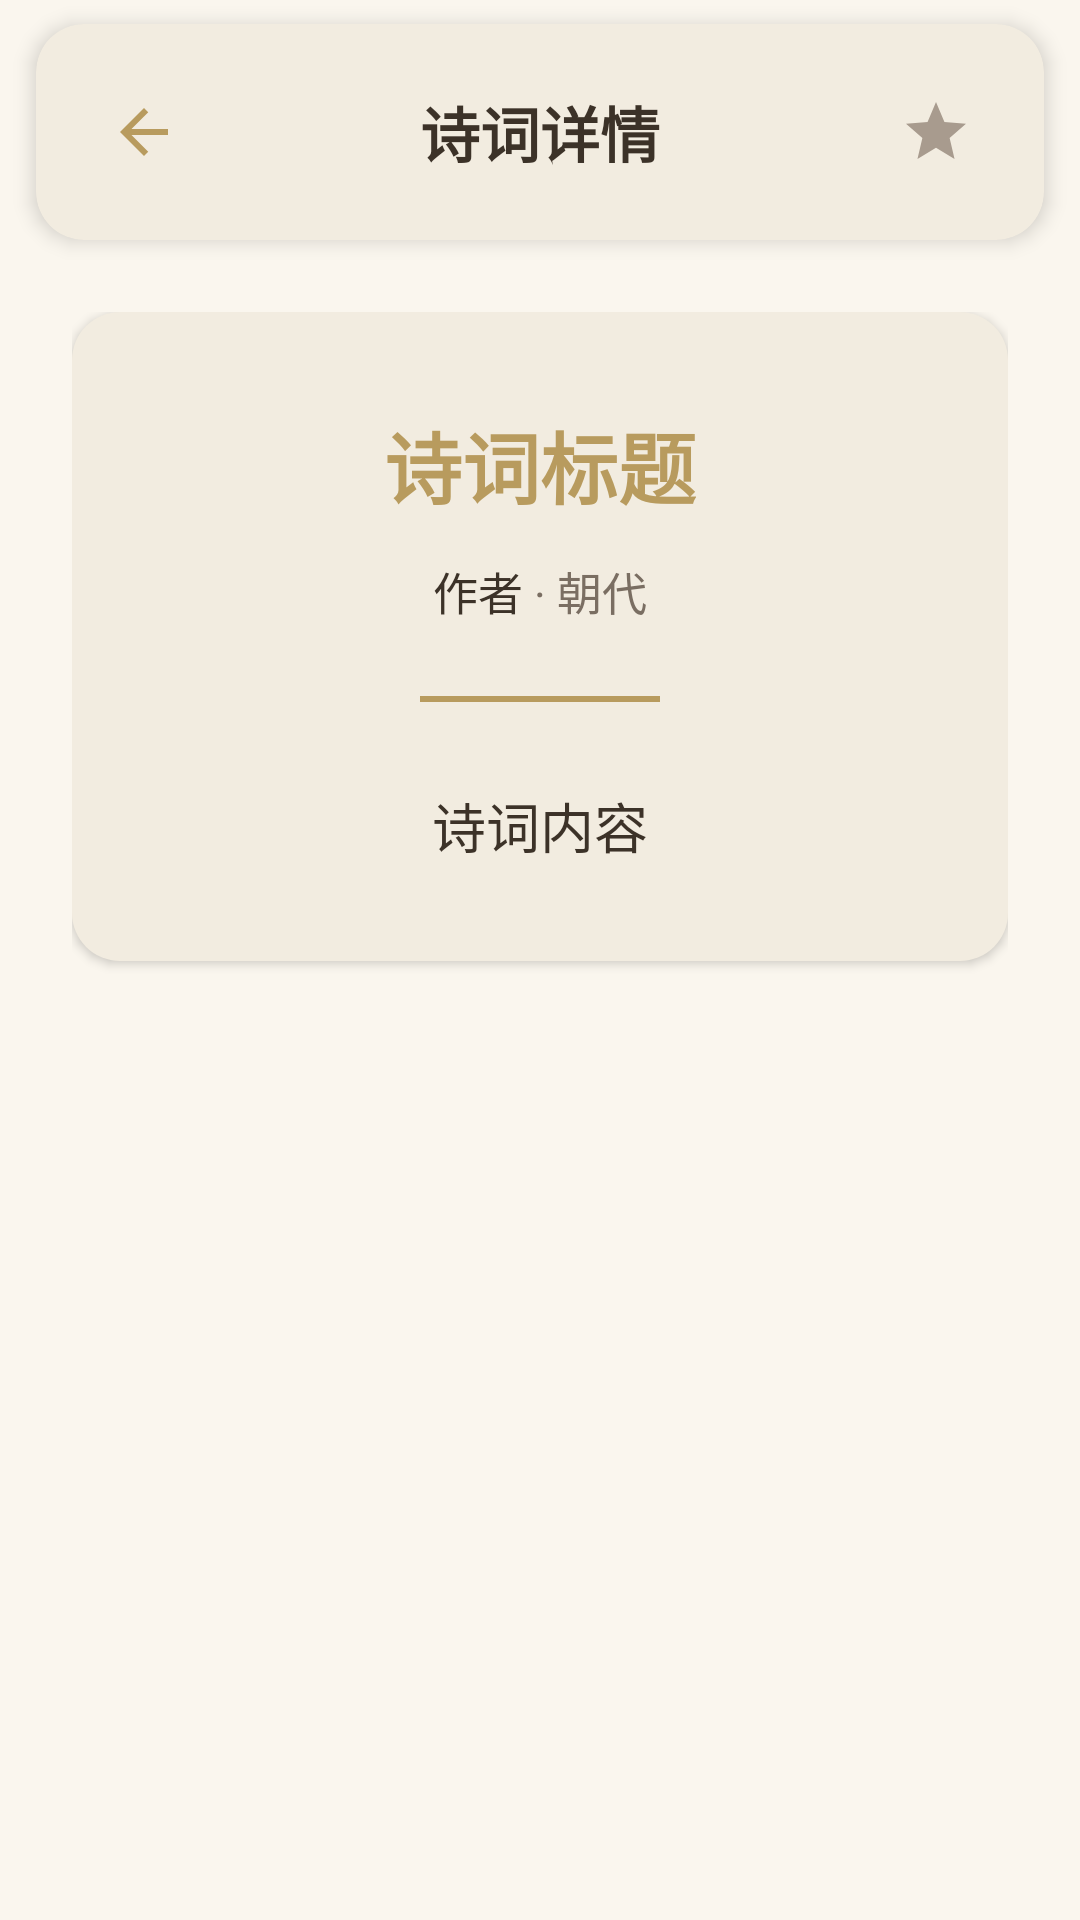

Screen size 1080 × 1920. Icon name, then its center in pixels as point (x, y):
收藏: point (936, 131)
返回: point (144, 132)
